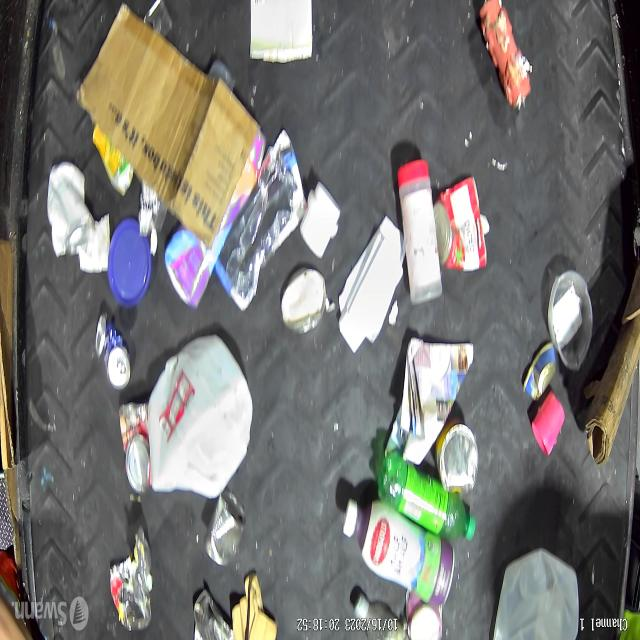can: (432, 412, 484, 508), (438, 190, 490, 277), (118, 395, 152, 503), (205, 489, 248, 570), (97, 307, 132, 401), (518, 342, 558, 412)
milk_jug: (144, 330, 256, 500), (486, 537, 587, 640)
plastic_bottle: (382, 444, 476, 544), (349, 592, 407, 640)
